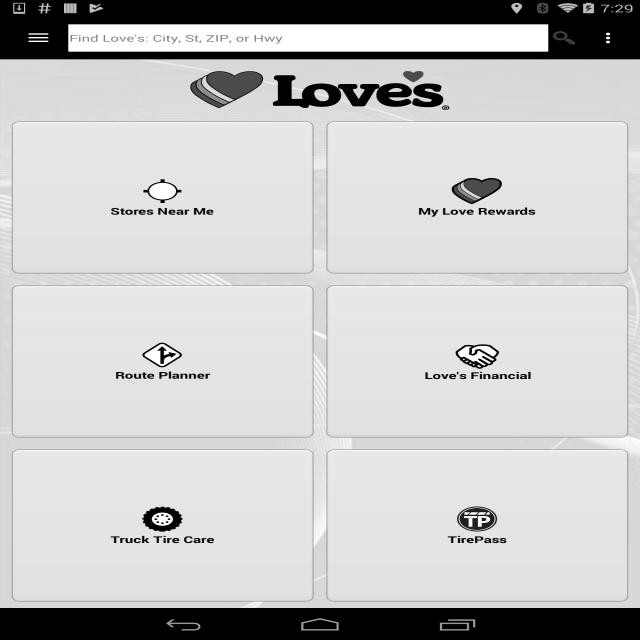EditText: (69, 24, 548, 52)
ImageButton: (9, 17, 68, 59)
ImageView: (0, 59, 640, 116), (442, 341, 513, 369), (127, 505, 198, 533), (442, 505, 513, 533), (136, 178, 189, 205), (451, 178, 504, 205), (136, 342, 189, 368), (589, 22, 631, 54), (548, 28, 580, 48)
TextView: (418, 205, 536, 217), (424, 369, 531, 382), (110, 533, 214, 546), (110, 205, 214, 217), (115, 369, 210, 381), (448, 533, 507, 546)
